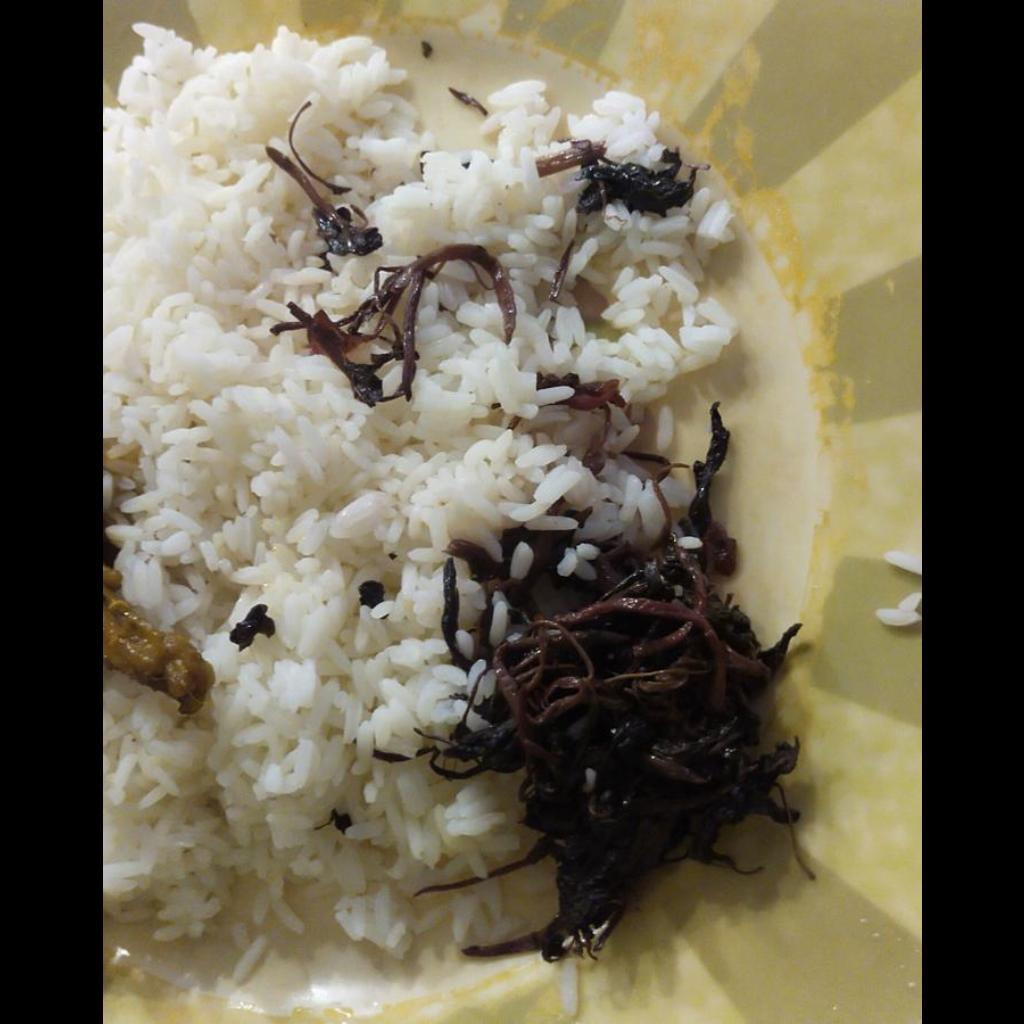lal-shak: (414, 559, 797, 965)
rice: (102, 13, 747, 952)
